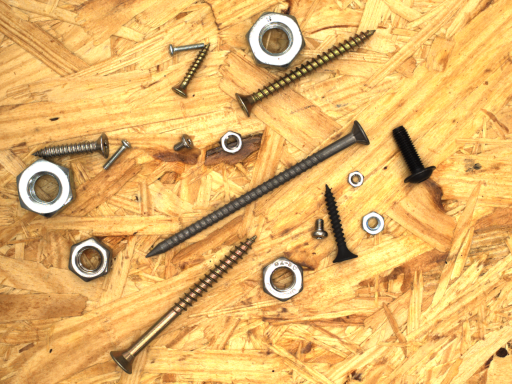screw_long: (123, 104, 386, 285)
